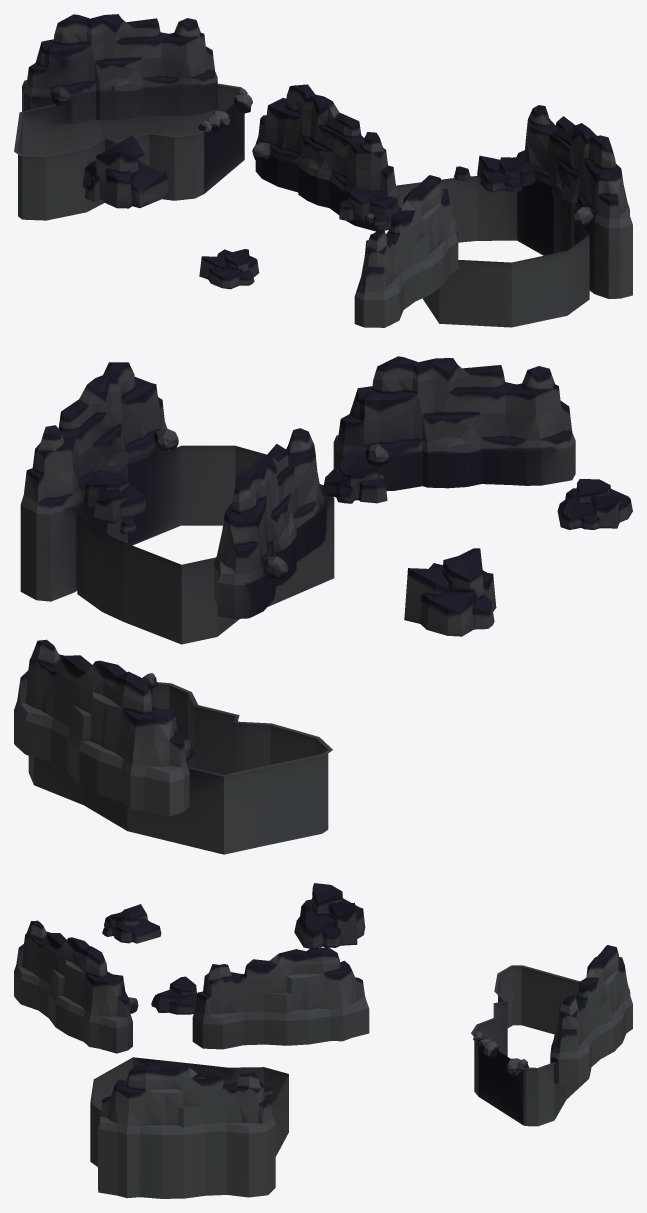
File: Wall_01.FBX
The picture shows the model from 3 angles, top to bottom: view 1: azimuth 30°, elevation 25°; view 2: azimuth 150°, elevation 25°; view 3: azimuth 270°, elevation 25°; orthographic projection. The views are drawn at different scales.
Parts seen in each view (by area): view 1: Wall_01; view 2: Wall_01; view 3: Wall_01.
Boxes of the visible parts, x1,y1,x2,y2 form: Wall_01: (14,14,632,327); Wall_01: (14,356,632,854); Wall_01: (14,883,632,1198).
Size of the model in its own units: 37.69 by 14.31 by 52.25.
